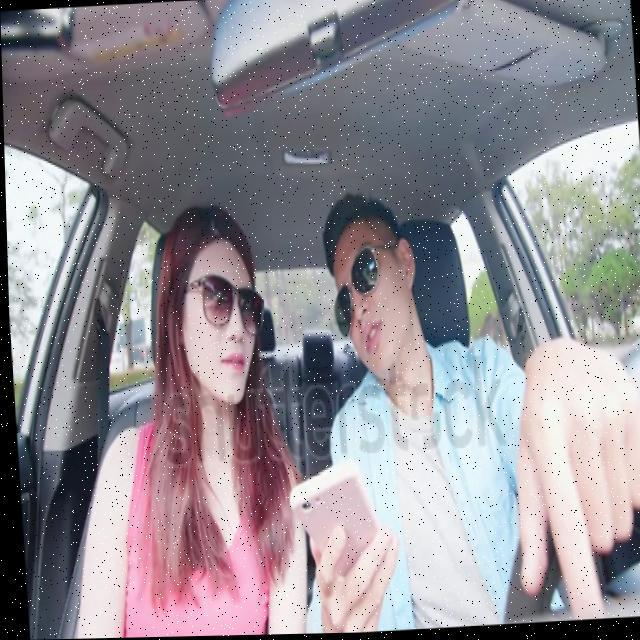PhoneCall: (283, 458, 378, 594)
